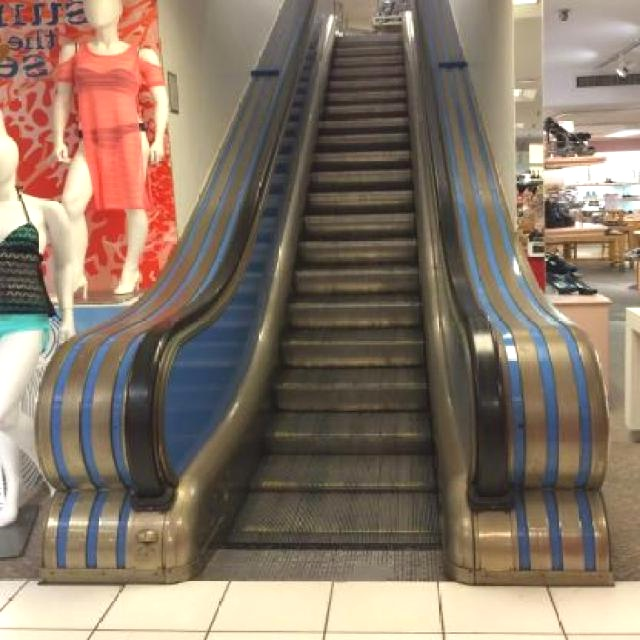stair: (189, 31, 457, 580)
